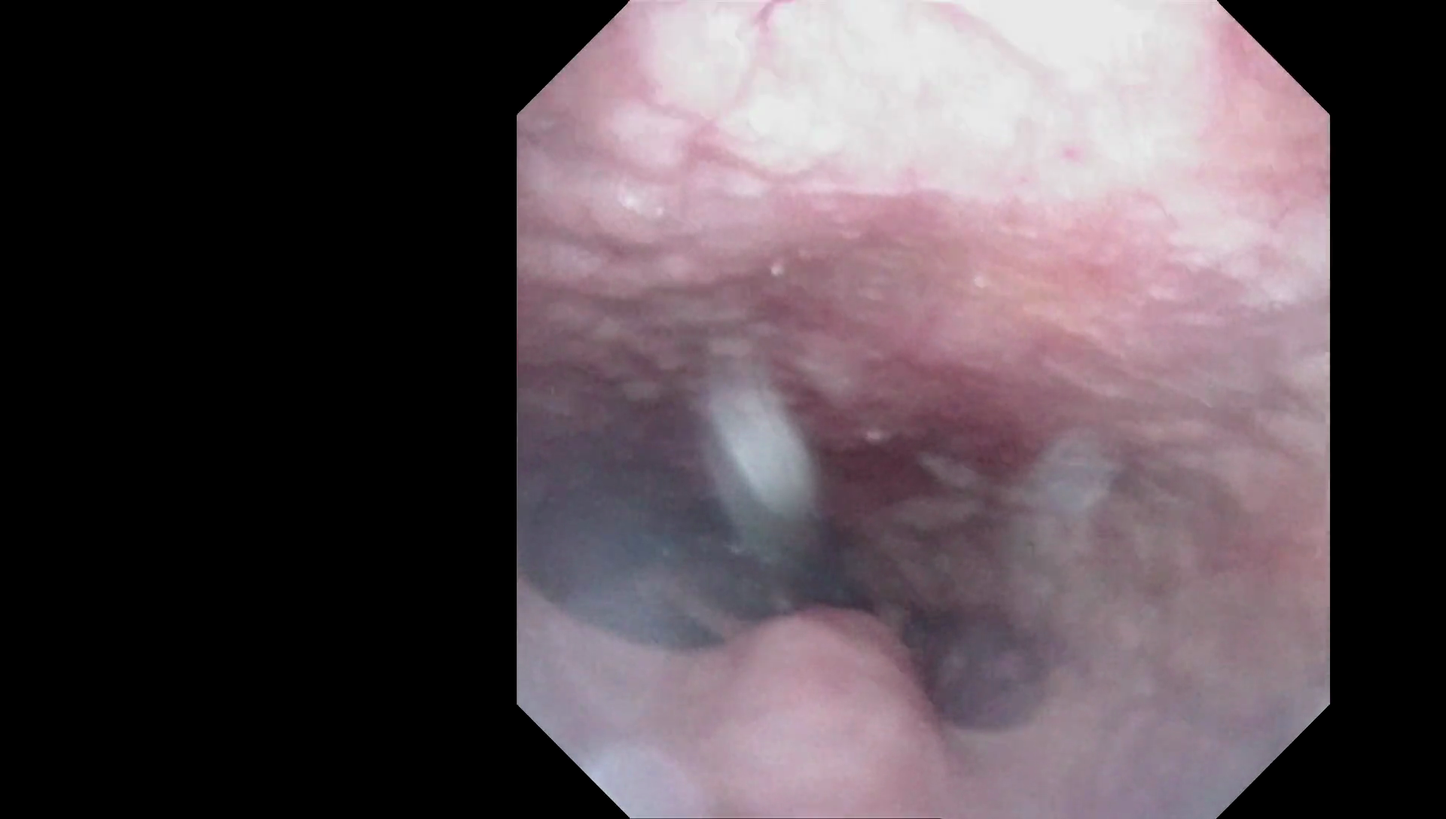close_wall: (643, 0, 1205, 252)
